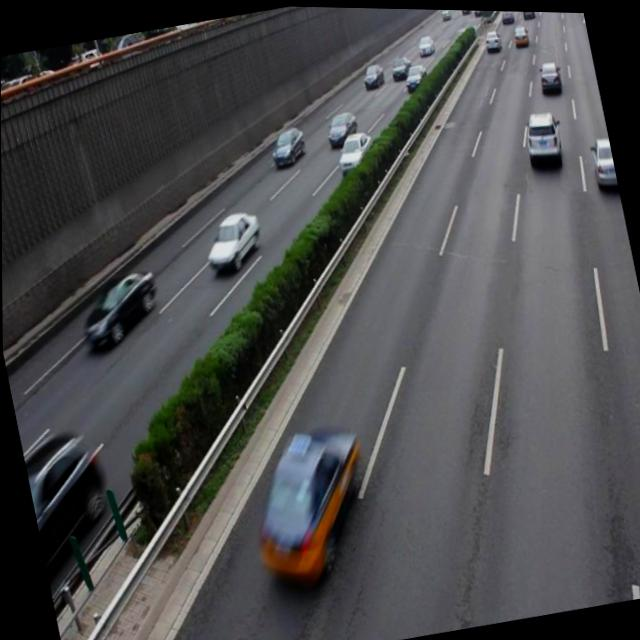car: (234, 419, 380, 593), (19, 422, 120, 589), (74, 265, 166, 353), (197, 205, 266, 274), (520, 105, 562, 164), (333, 127, 376, 177), (586, 132, 619, 190), (266, 123, 308, 168), (323, 108, 360, 148)
